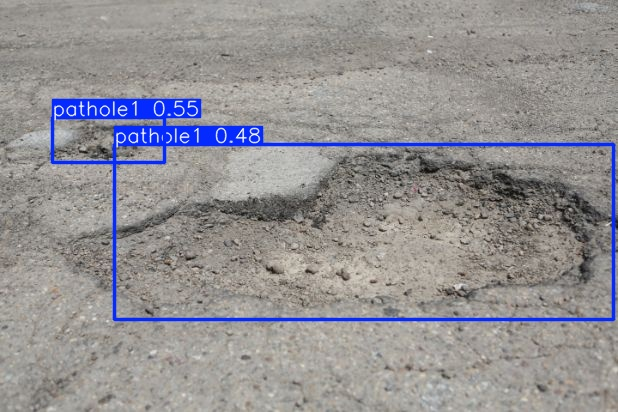pothole: (62, 146, 599, 315), (54, 119, 163, 162)
